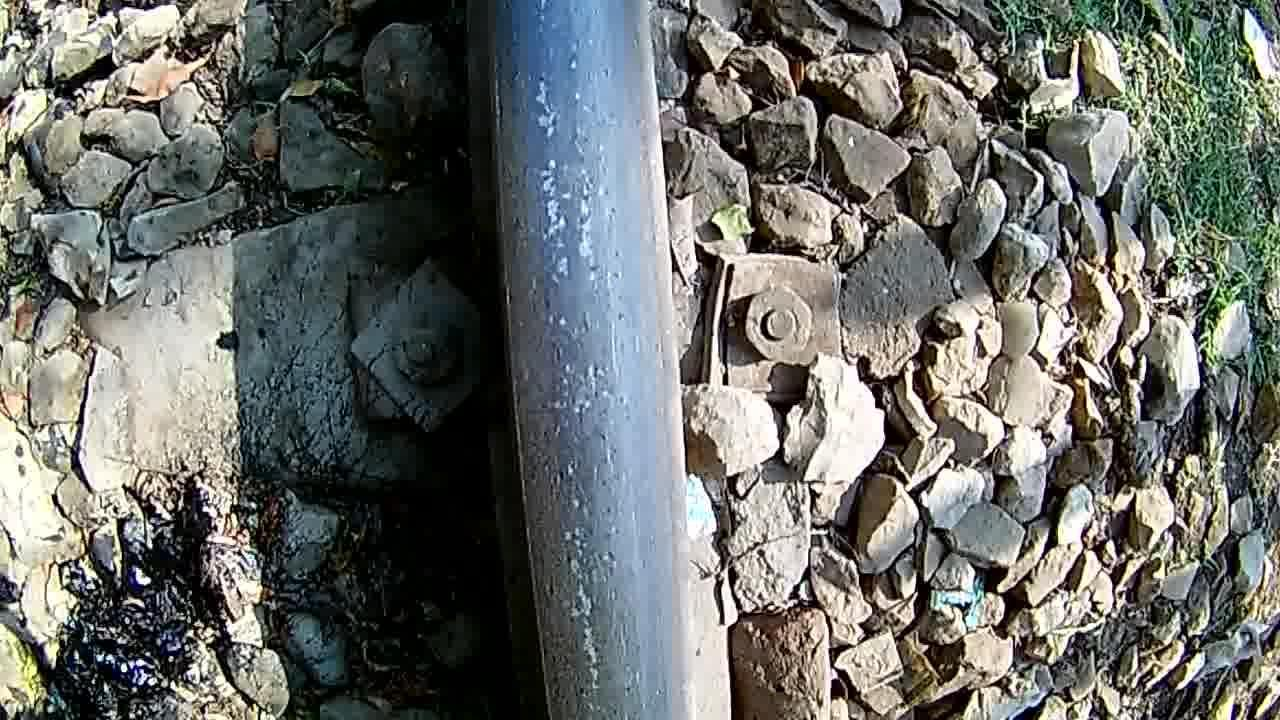crack: (479, 3, 678, 720)
